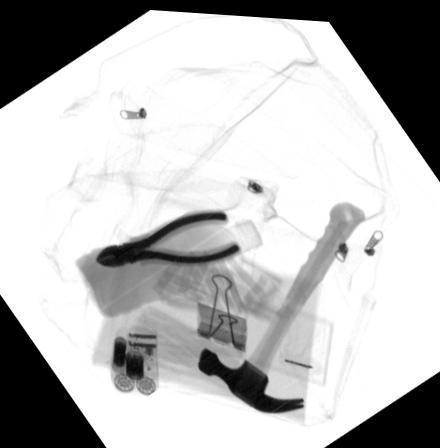Hammer: (196, 196, 364, 409)
Pliers: (93, 209, 239, 266)
